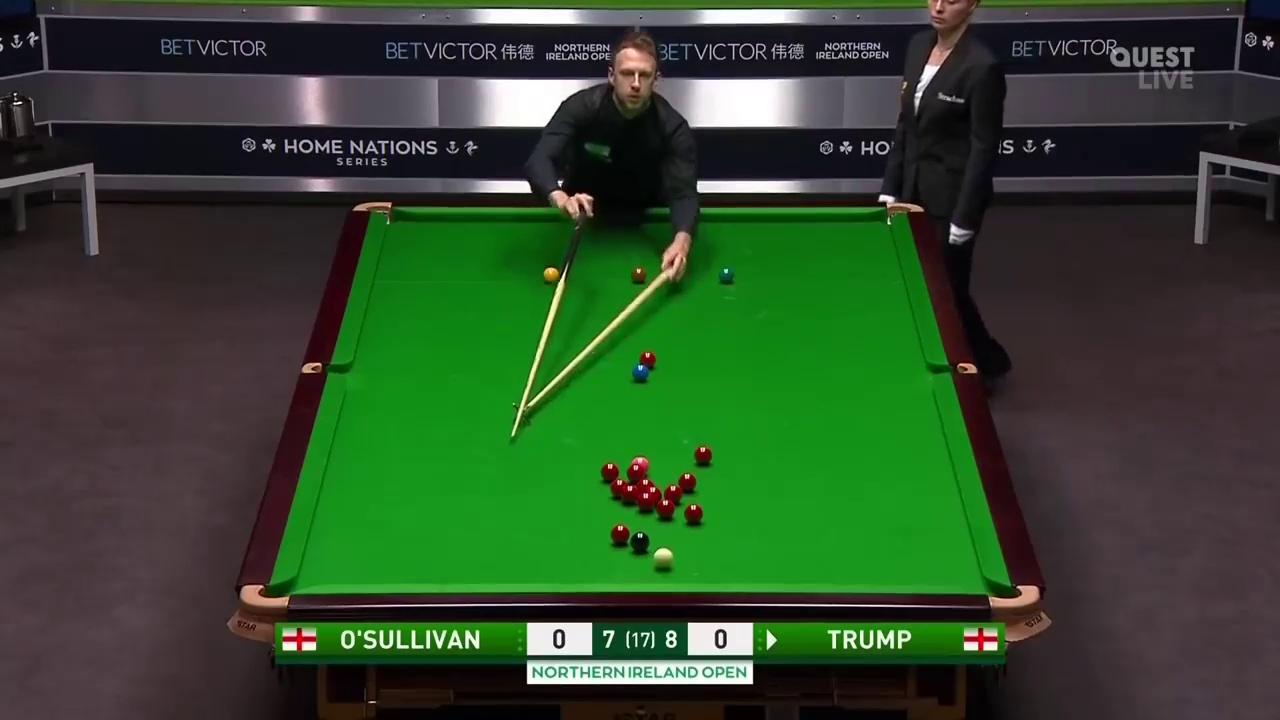black: (631, 533, 648, 551)
blue: (632, 364, 649, 382)
brown: (630, 266, 646, 284)
green: (718, 265, 733, 283)
red: (635, 491, 656, 514), (655, 500, 676, 521), (609, 525, 629, 545), (684, 505, 704, 524), (598, 464, 617, 483), (694, 445, 712, 465), (681, 472, 697, 493), (628, 465, 644, 482)
white: (652, 549, 674, 572)
yellow: (543, 265, 559, 286)
